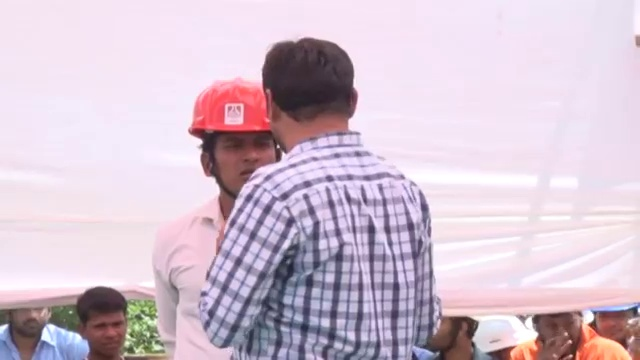helmet: (184, 80, 277, 138)
helmet_off: (255, 46, 362, 128), (76, 292, 131, 360), (428, 312, 495, 360), (531, 309, 584, 355), (7, 305, 52, 341), (589, 307, 636, 341)
helmet_on: (183, 81, 277, 205)
person: (195, 44, 435, 360), (151, 80, 280, 360), (509, 307, 631, 360), (0, 304, 89, 360)
